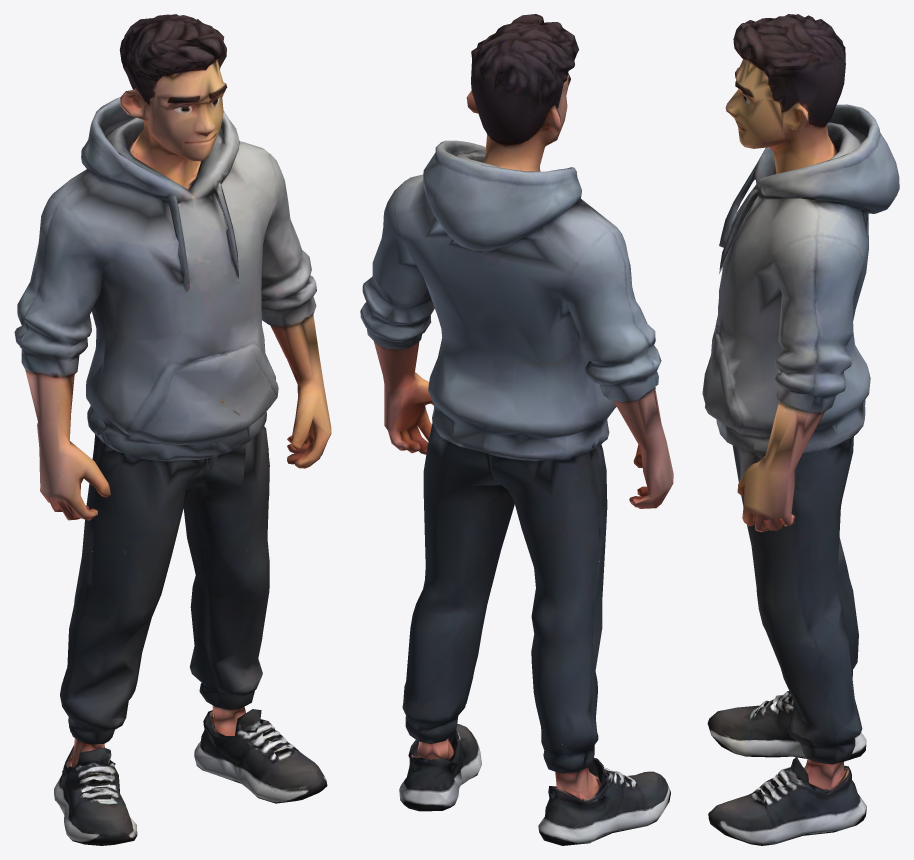
File: person_hoodie.glb
3 views of the same model, side by side, from view 1: azimuth 30°, elevation 25°; view 2: azimuth 150°, elevation 25°; view 3: azimuth 270°, elevation 25° (orthographic). The views are drawn at different scales.
Visible parts, largest first — view 1: tripo_node_65584ced-1628-4196-becf-3a47267c060b; view 2: tripo_node_65584ced-1628-4196-becf-3a47267c060b; view 3: tripo_node_65584ced-1628-4196-becf-3a47267c060b.
Boxes of the visible parts, x1,y1,x2,y2 form: tripo_node_65584ced-1628-4196-becf-3a47267c060b: (14, 14, 331, 845); tripo_node_65584ced-1628-4196-becf-3a47267c060b: (360, 14, 673, 845); tripo_node_65584ced-1628-4196-becf-3a47267c060b: (702, 14, 899, 845).
Size of the model in its own units: 0.3819 by 0.98 by 0.2274.
1 material, 1 textured.
